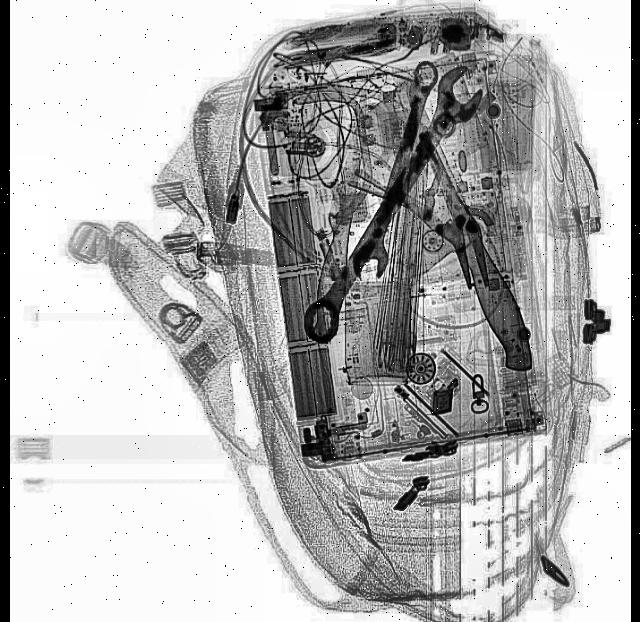Knife: (335, 76, 543, 404), (308, 106, 368, 344)
Wrench: (290, 56, 490, 352), (346, 55, 444, 285)
